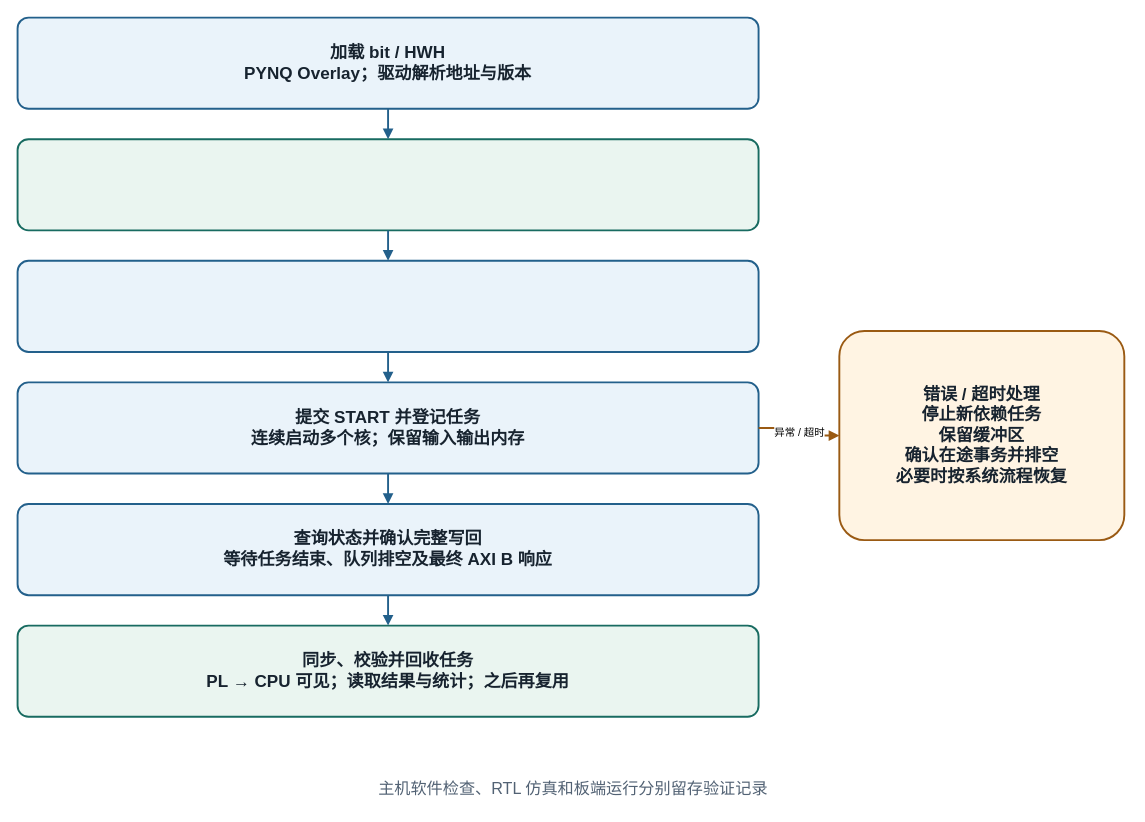
This 1145x822 diagram has some shape labels left out. Here are the shapes that lost their labels. From the top down, the box of each, then its label:
(16, 138, 759, 231): 准备数据与有效物理内存 B 转置为 BT；布局检查；CPU → PL 同步
(16, 259, 759, 352): 选择核心与配置任务 单核 / 按 32 行分区 / 独立任务
